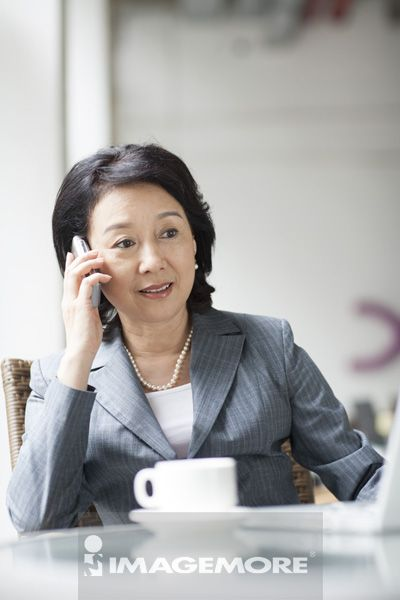phone: (69, 228, 103, 308)
talk: (55, 204, 191, 364)
